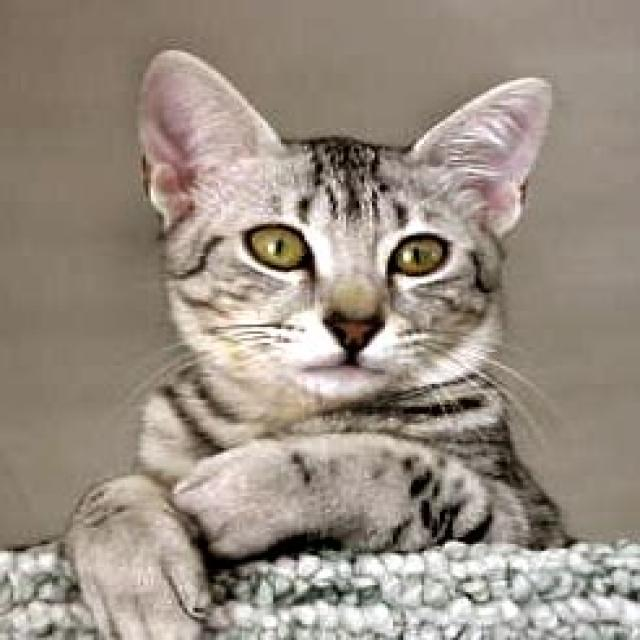Egyptian_Mau: (133, 46, 549, 398)
